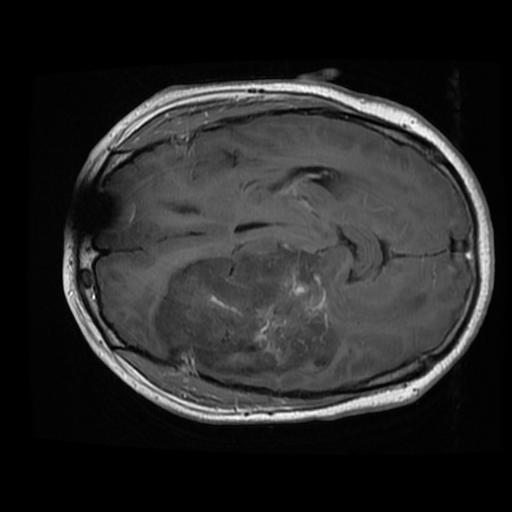glioma: (156, 244, 338, 376)
